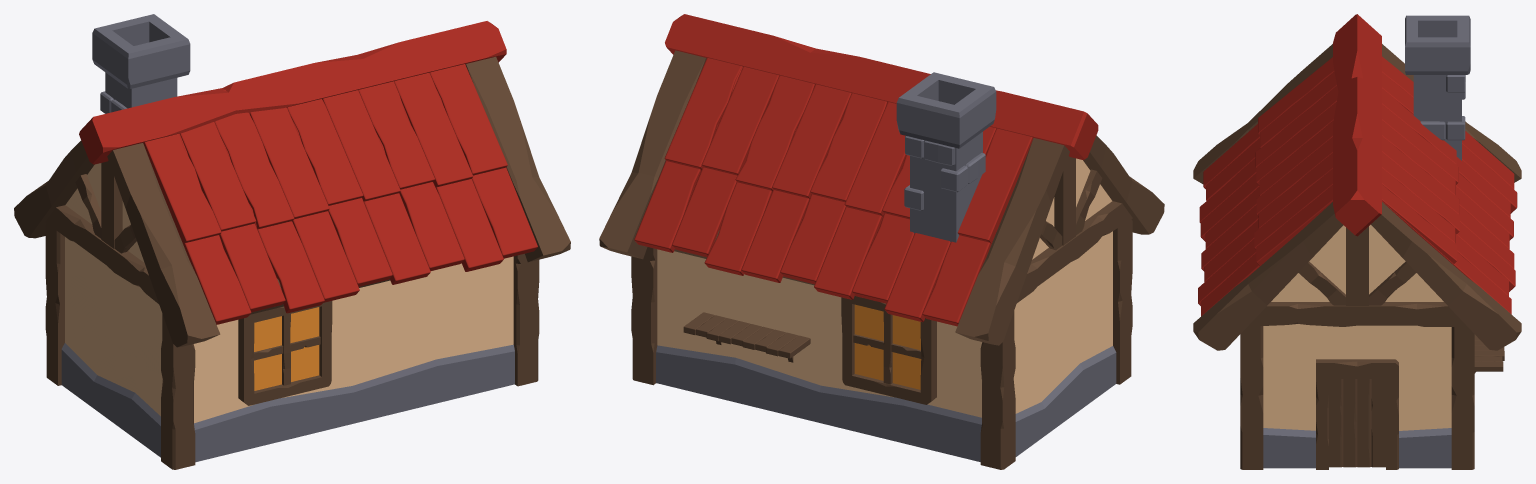
The model's file is HOUSE_2 1.fbx.
3 views of the same model, side by side, from view 1: azimuth 30°, elevation 25°; view 2: azimuth 150°, elevation 25°; view 3: azimuth 270°, elevation 25° (orthographic). The views are drawn at different scales.
Visible parts, largest first — view 1: Cube.042, Cube.033, Cube.041, Cube.034, Cube.038, Plane.043, Plane.016, Cube.044, Plane.039, Plane.040, Cube.035, Cube.036 (+1 smaller); view 2: Cube.033, Cube.039, Cube.043, Cube.034, Cube.038, Plane.043, Plane.016, Cube.044, Plane.039, Plane.040, Cube.035, Cube.048 (+3 smaller); view 3: Cube.033, Cube.034, Cube.042, Plane.043, Cube.043, Cube.039, Cube.041, Plane.016, Cube.044, Plane.023, Cube.035, Cube.038 (+4 smaller).
Boxes of the visible parts, <box> form: Cube.042: <box>144,64,507,243</box>; Cube.033: <box>65,163,513,423</box>; Cube.041: <box>143,91,537,324</box>; Cube.034: <box>14,56,570,347</box>; Cube.038: <box>61,343,514,462</box>; Plane.043: <box>79,21,506,164</box>; Plane.016: <box>45,223,539,469</box>; Cube.044: <box>92,14,190,108</box>; Plane.039: <box>238,301,332,405</box>; Plane.040: <box>254,307,319,390</box>; Cube.035: <box>45,205,158,303</box>; Cube.036: <box>75,160,136,253</box>; Cube.033: <box>657,158,1112,417</box>; Cube.039: <box>634,66,998,326</box>; Cube.043: <box>664,58,1033,243</box>; Cube.034: <box>599,50,1164,345</box>; Cube.038: <box>656,345,1116,461</box>; Plane.043: <box>665,14,1098,160</box>; Plane.016: <box>631,219,1132,469</box>; Cube.044: <box>896,72,996,242</box>; Plane.039: <box>841,296,936,404</box>; Plane.040: <box>854,304,921,389</box>; Cube.035: <box>1016,201,1132,303</box>; Cube.048: <box>683,312,810,358</box>; Cube.033: <box>1263,224,1451,430</box>; Cube.034: <box>1193,44,1521,350</box>; Cube.042: <box>1254,57,1357,265</box>; Plane.043: <box>1333,14,1381,236</box>; Cube.043: <box>1382,56,1459,263</box>; Cube.039: <box>1382,131,1517,314</box>; Cube.041: <box>1198,72,1333,316</box>; Plane.016: <box>1240,326,1474,469</box>; Cube.044: <box>1405,15,1470,160</box>; Plane.023: <box>1329,379,1385,467</box>; Cube.035: <box>1248,302,1467,326</box>; Cube.038: <box>1263,428,1451,468</box>.
Bounding box in the file's own units: 1136 × 912 × 872.
